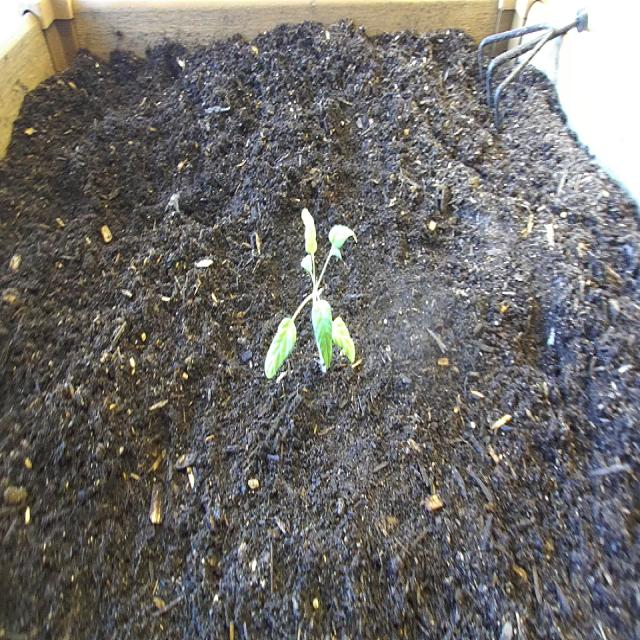Healthy: (259, 204, 363, 386)
